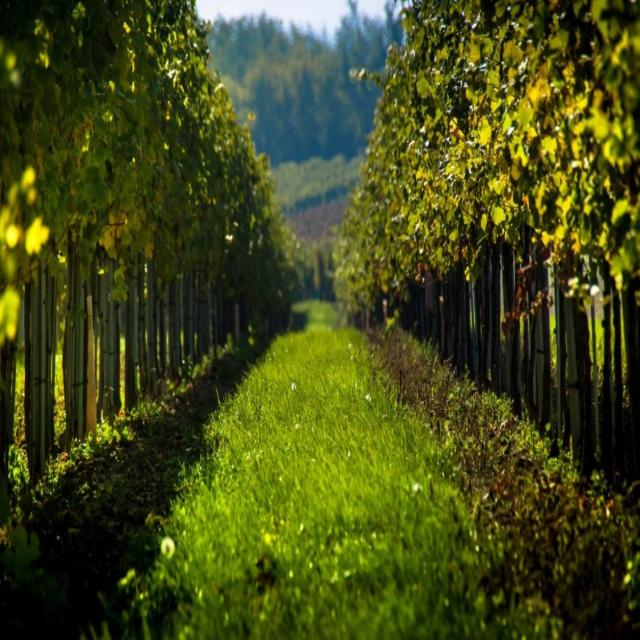row: (0, 299, 639, 640)
